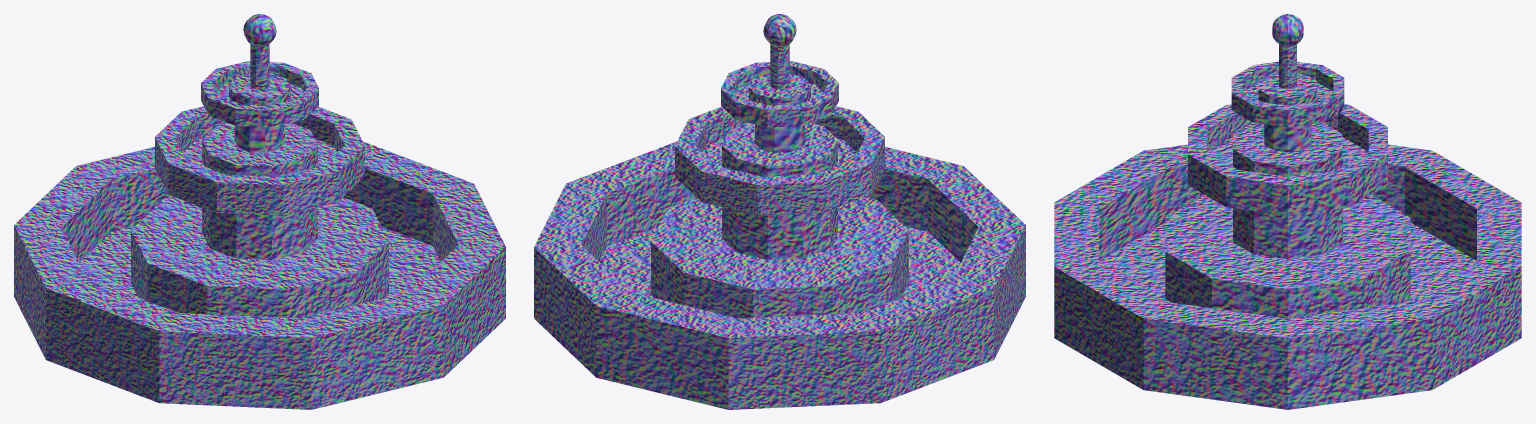
Rendered from assetPropFountain.fbx.
3 views of the same model, side by side, from view 1: azimuth 30°, elevation 25°; view 2: azimuth 150°, elevation 25°; view 3: azimuth 270°, elevation 25° (orthographic).
Visible parts, largest first — view 1: pSphere2; view 2: pSphere2; view 3: pSphere2.
Boxes of the visible parts, x1,y1,x2,y2 form: pSphere2: (14, 14, 505, 409); pSphere2: (534, 14, 1025, 409); pSphere2: (1054, 14, 1521, 409).
Bounding box in the file's own units: 3.76 × 2.46 × 3.58.
